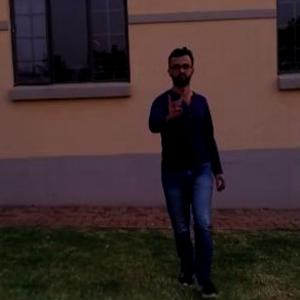takeoff-hand: (158, 81, 187, 119)
